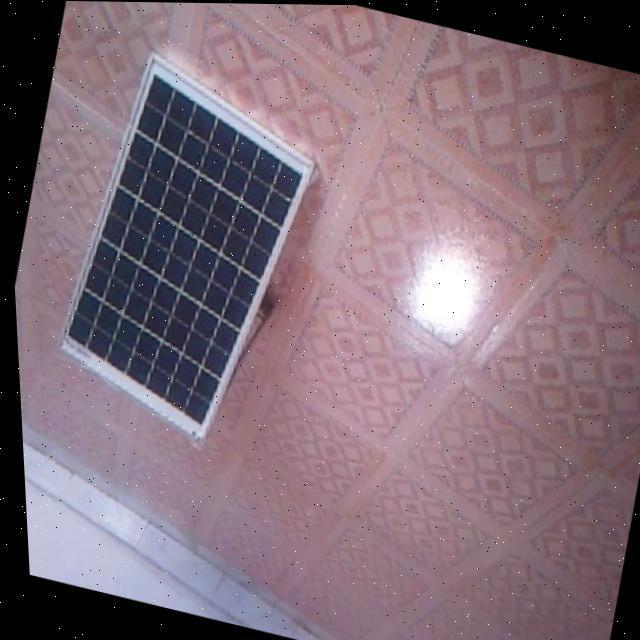Normal Solar Panel: (28, 42, 338, 458)
